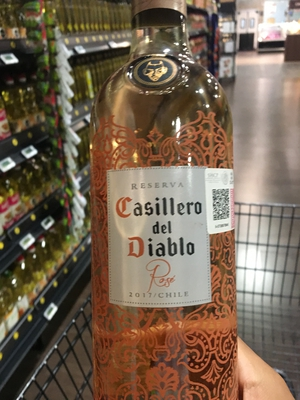casillero del diablo rose: (82, 16, 259, 392)
